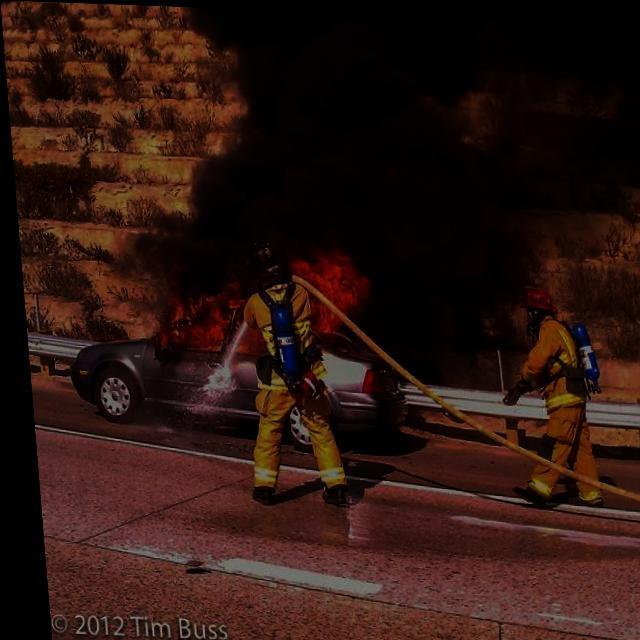Fire: (132, 232, 376, 368)
